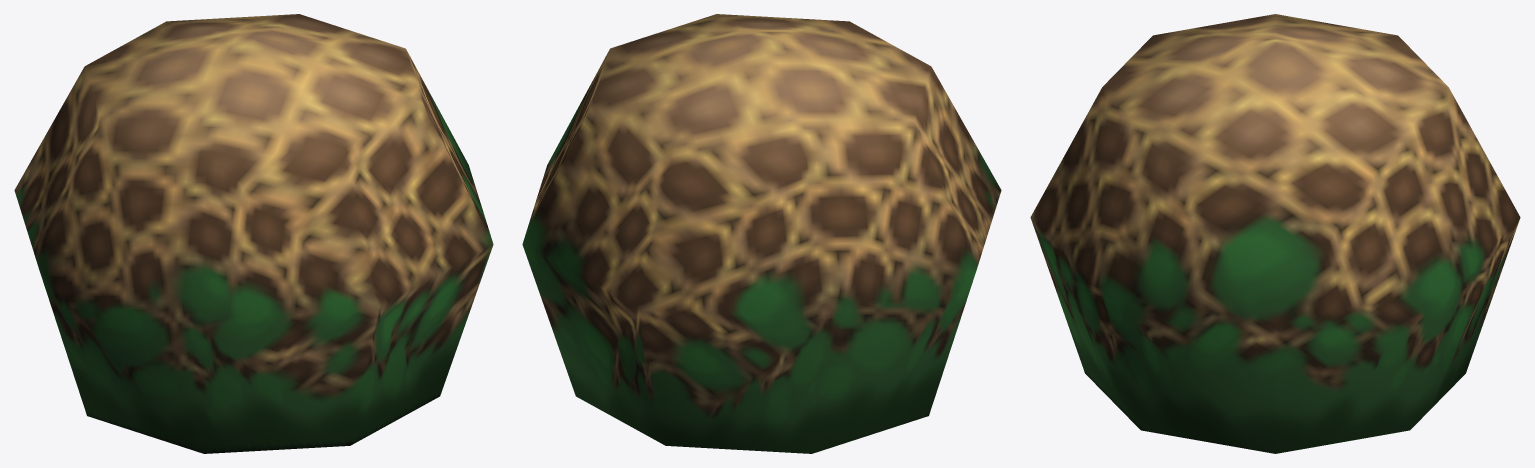
File: Coral_27b.FBX
3 views of the same model, side by side, from view 1: azimuth 30°, elevation 25°; view 2: azimuth 150°, elevation 25°; view 3: azimuth 270°, elevation 25° (orthographic).
Visible parts, largest first — view 1: Coral_27b; view 2: Coral_27b; view 3: Coral_27b.
Part boxes in pixels (left/top/right/bottom): Coral_27b: left=14, top=14, right=493, bottom=453; Coral_27b: left=522, top=14, right=1001, bottom=453; Coral_27b: left=1030, top=14, right=1520, bottom=453.
Bounding box in the file's own units: 15.11 × 11.26 × 15.11.
